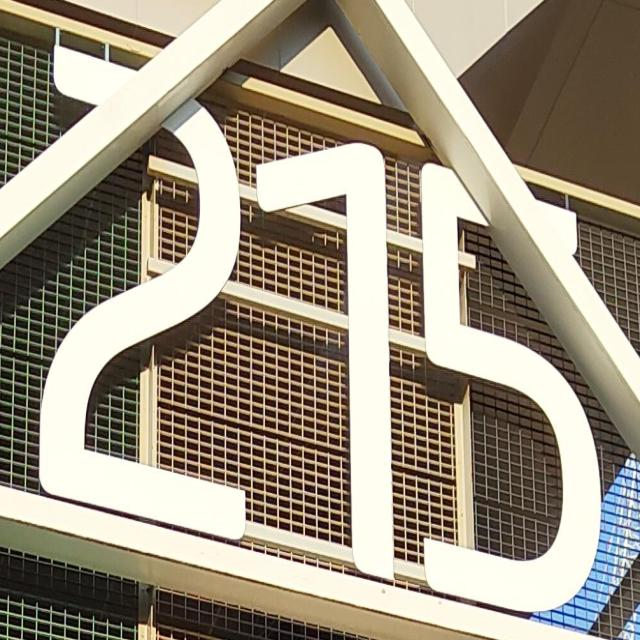character: (32, 38, 252, 552), (418, 152, 604, 616), (255, 135, 399, 588)
